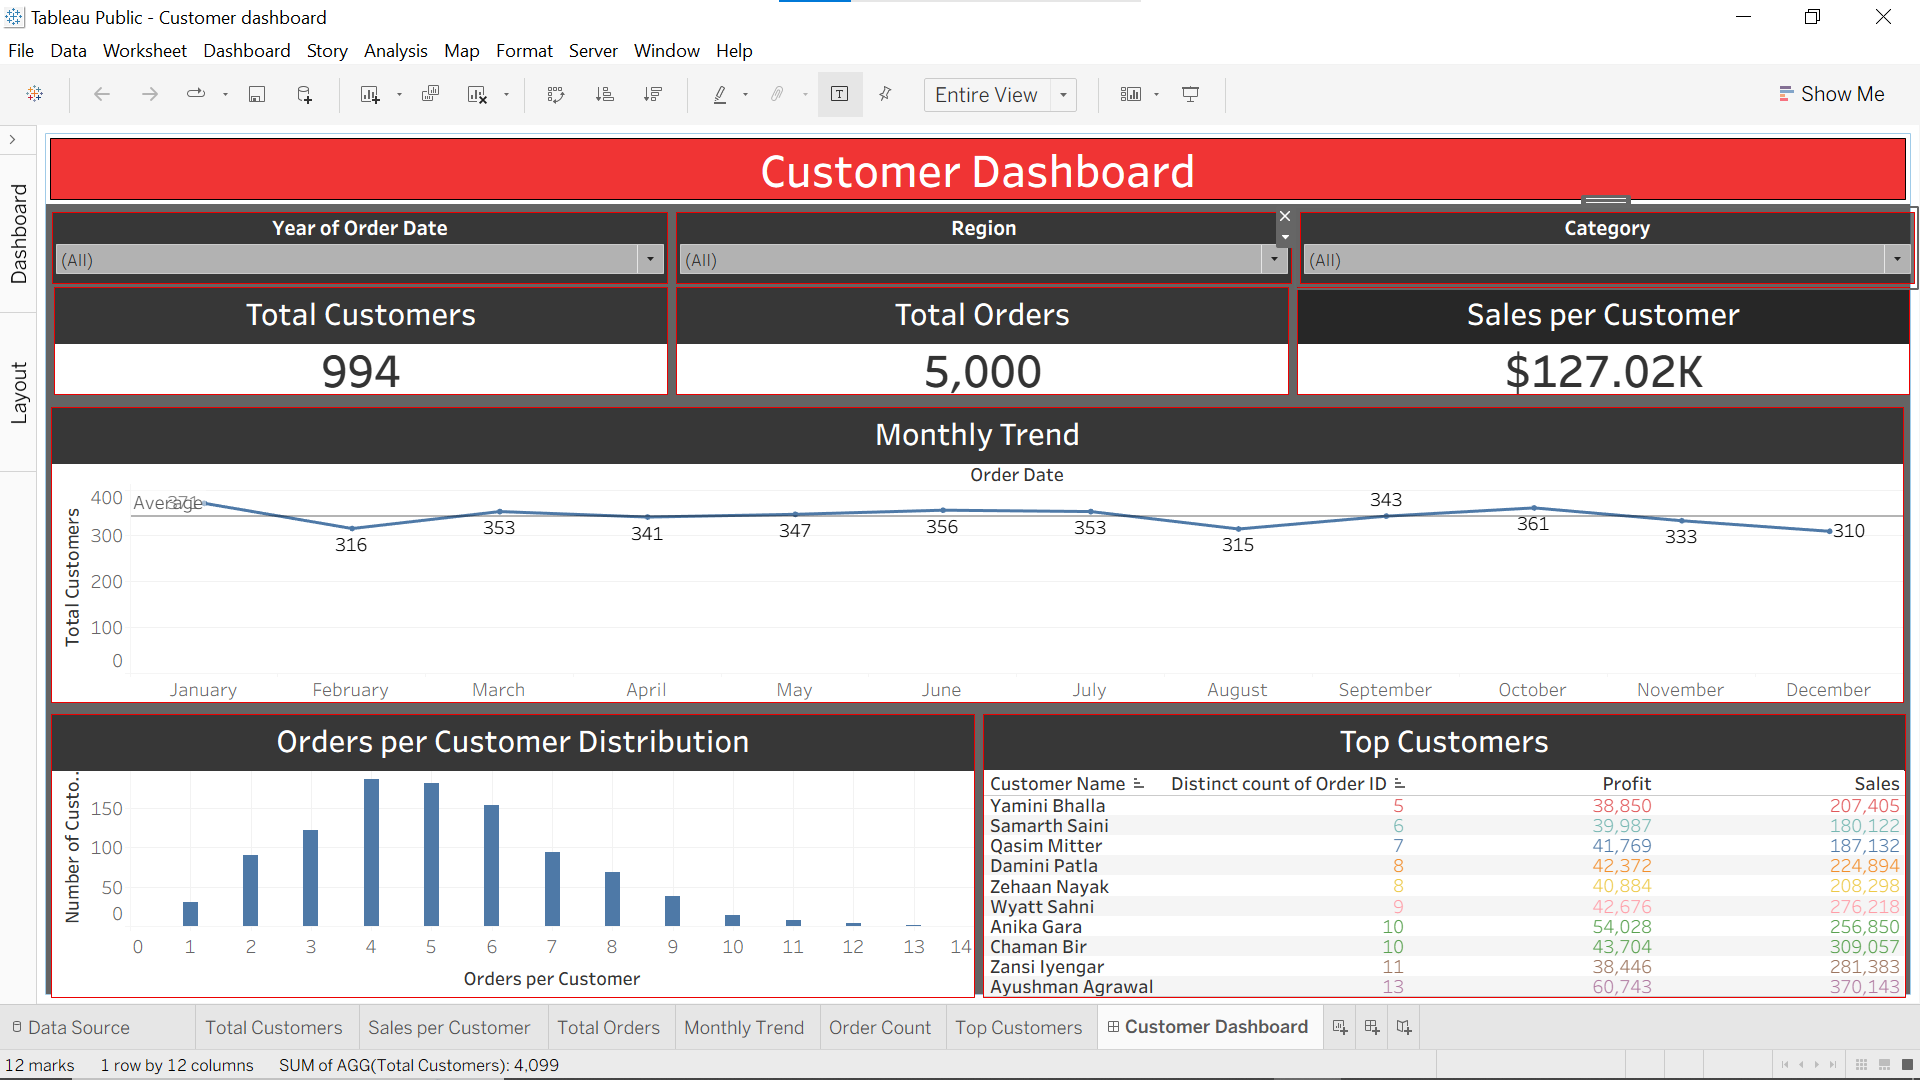

This screenshot's page, from the dashboard's own definition file:
{"tool":"tableau","page":{"name":"Customer Dashboard ","canvas":[1000,1000],"units":"permille","ordinal":0},"visuals":[{"type":"title","box":[4.8,10.2,990.4,79.7]},{"type":"filter","title":"Monthly Trend","param":"[federated.0zvise41hh9cpy1h2s35l0em544y].[yr:Order Date:ok]","box":[5.8,94.5,331.6,91.1]},{"type":"filter","title":"Monthly Trend","param":"[federated.0zvise41hh9cpy1h2s35l0em544y].[none:Region:nk]","box":[337.4,94.5,331.6,91.1]},{"type":"filter","title":"Monthly Trend","param":"[federated.0zvise41hh9cpy1h2s35l0em544y].[none:Category:nk]","box":[669,94.5,331,91.1]},{"type":"worksheet","title":"Total Customers","mark":"Automatic","box":[6.9,180,330.5,132.1]},{"type":"worksheet","title":"Total Orders","mark":"Automatic","box":[337.4,180,330,132.1]},{"type":"worksheet","title":"Sales per Customer","mark":"Automatic","box":[667.4,180,330,132.1]},{"type":"worksheet","title":"Monthly Trend","mark":"Line","rows":["Calculation_0368898210607104"],"cols":["Order Date"],"box":[7.5,321.2,984.4,337.1]},{"type":"worksheet","title":"Order Count","mark":"Bar","rows":["Customer ID"],"cols":["Calculation_0368898210914307"],"box":[5.3,666.3,495.2,332.6]},{"type":"worksheet","title":"Top Customers","mark":"Automatic","rows":["Customer Name"],"box":[500.5,666.3,494.7,332.6]}]}

Visuals, with their boxes on the dashboard's canvas, which has no fixed pixel size, in thousandths of its width and height (x1, y1, x2, y2). These are canvas units, not pixel positions in the 1920x1080 screenshot, which may show the page scaled, cropped or inside an application window:
title: <region>5, 10, 995, 90</region>
"Monthly Trend" filter: <region>6, 94, 337, 186</region>
"Monthly Trend" filter: <region>337, 94, 669, 186</region>
"Monthly Trend" filter: <region>669, 94, 1000, 186</region>
"Total Customers" worksheet: <region>7, 180, 337, 312</region>
"Total Orders" worksheet: <region>337, 180, 667, 312</region>
"Sales per Customer" worksheet: <region>667, 180, 997, 312</region>
"Monthly Trend" worksheet (Line marks): <region>8, 321, 992, 658</region>
"Order Count" worksheet (Bar marks): <region>5, 666, 500, 999</region>
"Top Customers" worksheet: <region>500, 666, 995, 999</region>
